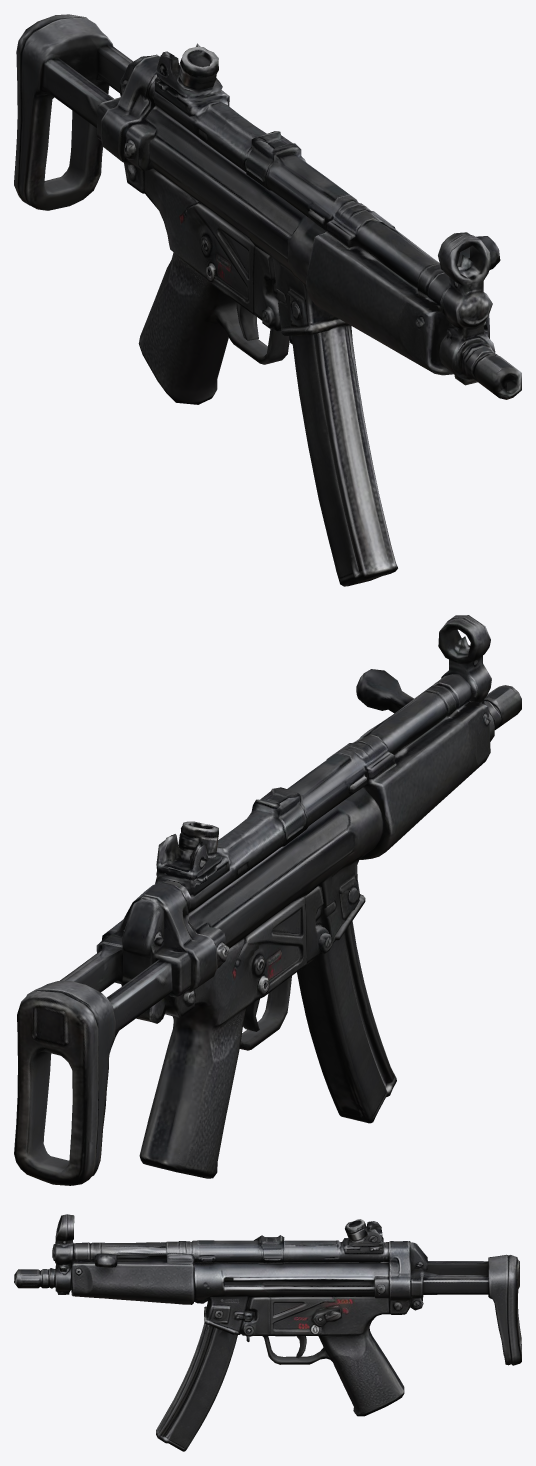
The picture shows the model from 3 angles, top to bottom: view 1: azimuth 30°, elevation 25°; view 2: azimuth 150°, elevation 25°; view 3: azimuth 270°, elevation 25°; orthographic projection. The views are drawn at different scales.
Parts seen in each view (by area): view 1: tripo_node_d7761d04-ecf3-4083-bf89-a4503f735131; view 2: tripo_node_d7761d04-ecf3-4083-bf89-a4503f735131; view 3: tripo_node_d7761d04-ecf3-4083-bf89-a4503f735131.
Boxes of the visible parts, box(x1,y1,x2,y2) form: tripo_node_d7761d04-ecf3-4083-bf89-a4503f735131: box(14, 14, 521, 586); tripo_node_d7761d04-ecf3-4083-bf89-a4503f735131: box(14, 615, 521, 1185); tripo_node_d7761d04-ecf3-4083-bf89-a4503f735131: box(14, 1214, 521, 1451).
Size of the model in its own units: 0.146 by 0.4954 by 0.9803.
1 material, 1 textured.
